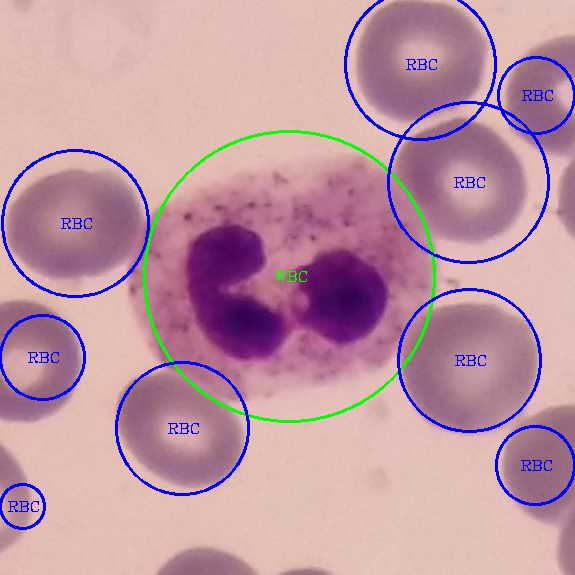RBC: (400, 296, 539, 440), (389, 113, 528, 250), (111, 366, 249, 497), (353, 0, 492, 127), (3, 165, 143, 288), (1, 296, 87, 428), (502, 31, 573, 161), (496, 402, 573, 521)
WBC: (124, 147, 433, 413)
